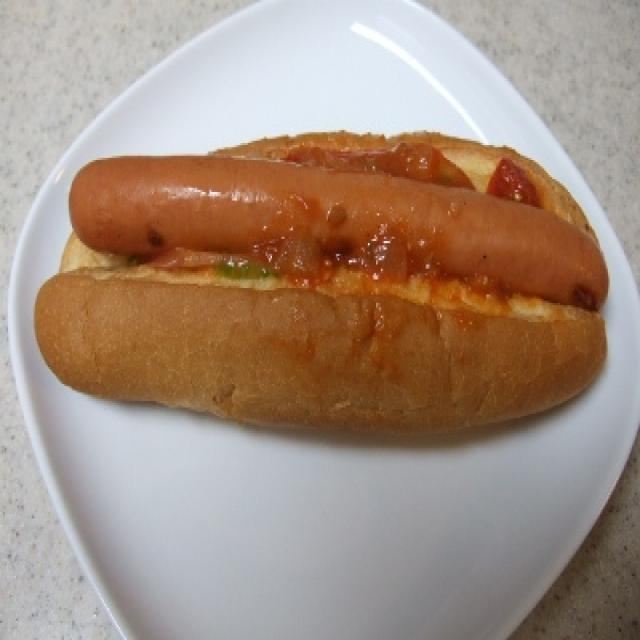Hot Dog: (34, 119, 612, 440)
